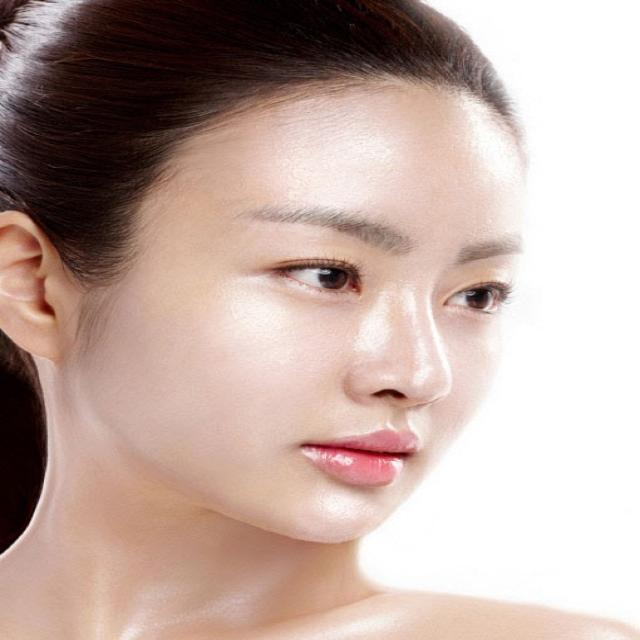Oily-Skin: (275, 109, 395, 223), (452, 87, 523, 211), (222, 275, 294, 360), (409, 269, 456, 398), (353, 287, 397, 359), (316, 482, 370, 528)
